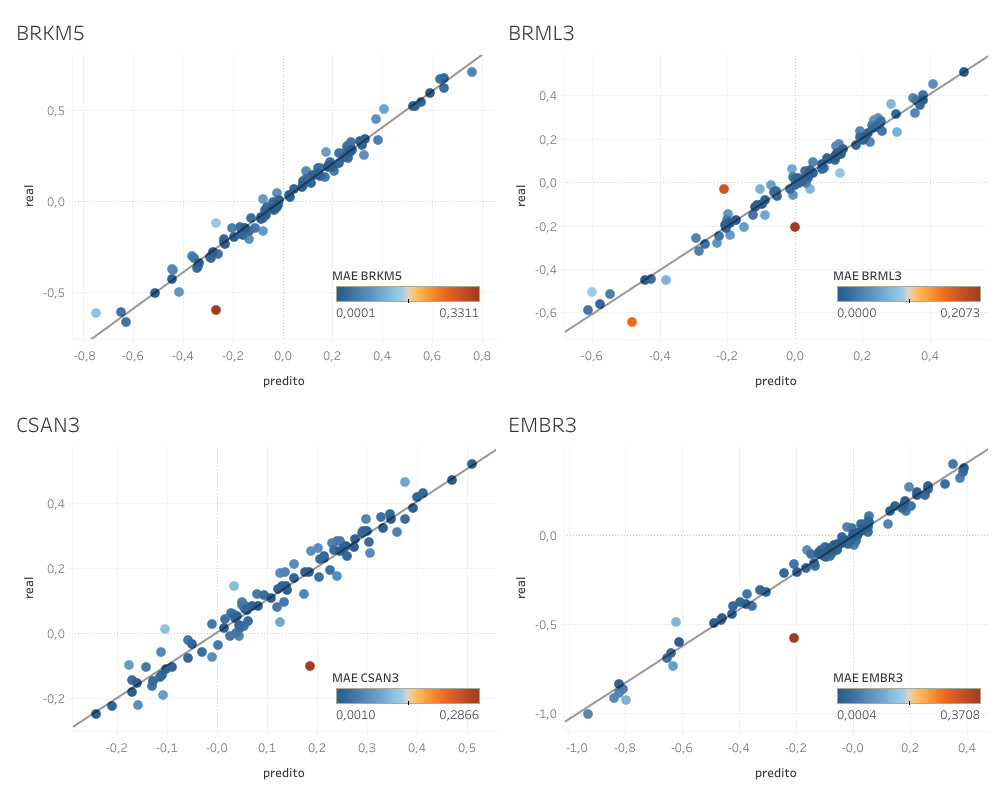

The dashboard page shown, as its layout file describes it:
{"tool":"tableau","page":{"name":"Dashboard1","canvas":[1000,800],"ordinal":0},"visuals":[{"type":"worksheet","box":[0,0,1000,800]},{"type":"worksheet","param":"horz","box":[8,8,984,784]},{"type":"worksheet","box":[8,8,984,784]},{"type":"worksheet","title":"BRKM5","mark":"Automatic","rows":["BRKM5 (obs)"],"cols":["BRKM5"],"box":[8,8,492,392]},{"type":"worksheet","title":"BRML3","mark":"Automatic","rows":["BRML3 (obs)"],"cols":["BRML3"],"box":[500,8,492,392]},{"type":"worksheet","title":"BRKM5","mark":"Automatic","rows":["BRKM5 (obs)"],"cols":["BRKM5"],"param":"[federated.1erpp7r16owpnw15e64un07aysdq].[none:Calculation_705587442880036864:qk","box":[332,262,152,79]},{"type":"worksheet","title":"BRML3","mark":"Automatic","rows":["BRML3 (obs)"],"cols":["BRML3"],"param":"[federated.1erpp7r16owpnw15e64un07aysdq].[none:Calculation_705587442880344065:qk","box":[833,262,152,79]},{"type":"worksheet","title":"CSAN3","mark":"Automatic","rows":["CSAN3 (obs)"],"cols":["CSAN3"],"box":[8,400,492,392]},{"type":"worksheet","title":"EMBR3","mark":"Automatic","rows":["EMBR3 (obs)"],"cols":["EMBR3"],"box":[500,400,492,392]},{"type":"worksheet","title":"CSAN3","mark":"Automatic","rows":["CSAN3 (obs)"],"cols":["CSAN3"],"param":"[federated.1erpp7r16owpnw15e64un07aysdq].[none:Calculation_705587442881277954:qk","box":[332,664,152,79]},{"type":"worksheet","title":"EMBR3","mark":"Automatic","rows":["EMBR3 (obs)"],"cols":["EMBR3"],"param":"[federated.1erpp7r16owpnw15e64un07aysdq].[none:Calculation_705587442882387971:qk","box":[833,664,152,79]}]}

Visuals, with their boxes in screenshot pixels (x1, y1, x2, y2), scaled from the page's 1000x800 canvas onto the 999x799 screenshot:
worksheet: crop(0, 0, 998, 798)
worksheet: crop(8, 8, 991, 791)
worksheet: crop(8, 8, 991, 791)
"BRKM5" worksheet: crop(8, 8, 500, 400)
"BRML3" worksheet: crop(500, 8, 991, 400)
"BRKM5" worksheet: crop(332, 262, 484, 341)
"BRML3" worksheet: crop(832, 262, 984, 341)
"CSAN3" worksheet: crop(8, 400, 500, 791)
"EMBR3" worksheet: crop(500, 400, 991, 791)
"CSAN3" worksheet: crop(332, 663, 484, 742)
"EMBR3" worksheet: crop(832, 663, 984, 742)
